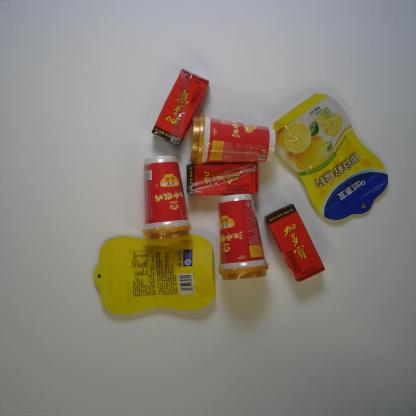Dried Fruit: (269, 91, 389, 222), (92, 235, 216, 316)
Drink: (148, 68, 213, 147), (264, 203, 326, 284), (185, 160, 261, 197)
Instant Drink: (218, 190, 268, 282), (188, 112, 272, 166), (141, 154, 193, 240)
